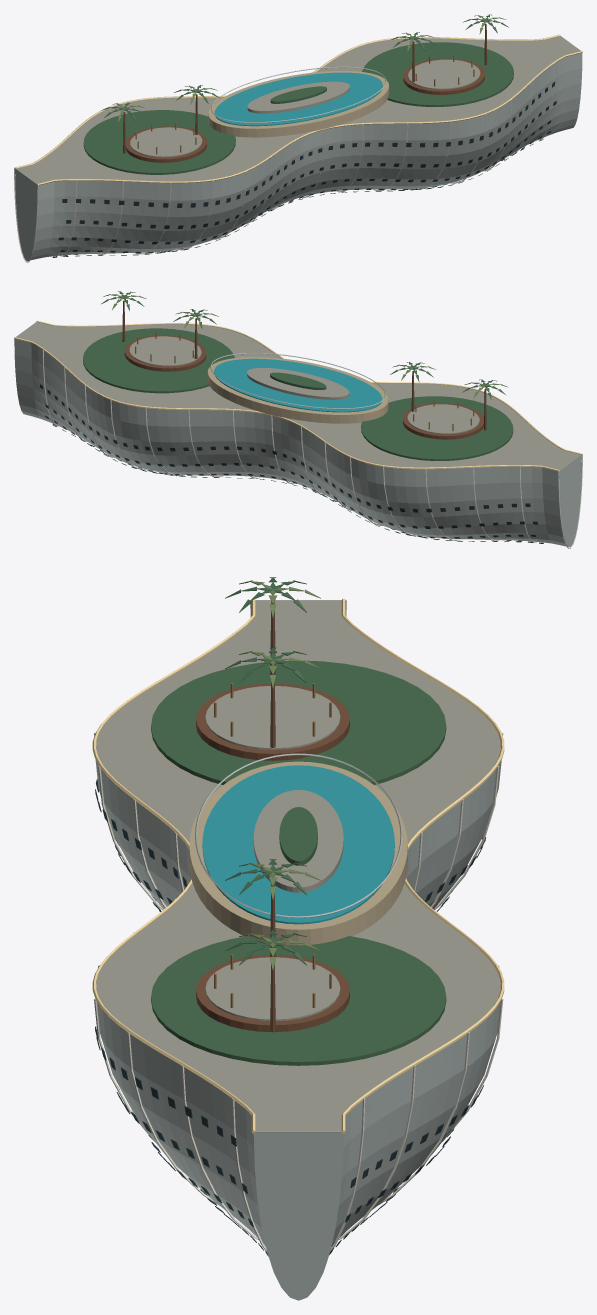
Rendered from KOL_T1_ATMOSPHERE__Deya_Skybridge.fbx.
The picture shows the model from 3 angles, top to bottom: view 1: azimuth 30°, elevation 25°; view 2: azimuth 150°, elevation 25°; view 3: azimuth 270°, elevation 25°; orthographic projection. The views are drawn at different scales.
Visible parts, largest first — view 1: KOL_T1_ATMOSPHERE__Deya_Skybridge__KOL_T1_Silver, KOL_T1_ATMOSPHERE__Deya_Skybridge__KOL_T1_Paving, KOL_T1_ATMOSPHERE__Deya_Skybridge__KOL_T1_Leaf, KOL_T1_ATMOSPHERE__Deya_Skybridge__KOL_T1_Water, KOL_T1_ATMOSPHERE__Deya_Skybridge__KOL_T1_Graphite, KOL_T1_ATMOSPHERE__Deya_Skybridge__KOL_T1_Stone, KOL_T1_ATMOSPHERE__Deya_Skybridge__KOL_T1_Accent, KOL_T1_ATMOSPHERE__Deya_Skybridge__KOL_T1_Pearl, KOL_T1_ATMOSPHERE__Deya_Skybridge__KOL_T1_Louvre, KOL_T1_ATMOSPHERE__Deya_Skybridge__KOL_T1_LeafLight; view 2: KOL_T1_ATMOSPHERE__Deya_Skybridge__KOL_T1_Silver, KOL_T1_ATMOSPHERE__Deya_Skybridge__KOL_T1_Paving, KOL_T1_ATMOSPHERE__Deya_Skybridge__KOL_T1_Leaf, KOL_T1_ATMOSPHERE__Deya_Skybridge__KOL_T1_Water, KOL_T1_ATMOSPHERE__Deya_Skybridge__KOL_T1_Stone, KOL_T1_ATMOSPHERE__Deya_Skybridge__KOL_T1_Accent, KOL_T1_ATMOSPHERE__Deya_Skybridge__KOL_T1_Pearl, KOL_T1_ATMOSPHERE__Deya_Skybridge__KOL_T1_Graphite, KOL_T1_ATMOSPHERE__Deya_Skybridge__KOL_T1_Louvre, KOL_T1_ATMOSPHERE__Deya_Skybridge__KOL_T1_LeafLight; view 3: KOL_T1_ATMOSPHERE__Deya_Skybridge__KOL_T1_Paving, KOL_T1_ATMOSPHERE__Deya_Skybridge__KOL_T1_Silver, KOL_T1_ATMOSPHERE__Deya_Skybridge__KOL_T1_Leaf, KOL_T1_ATMOSPHERE__Deya_Skybridge__KOL_T1_Water, KOL_T1_ATMOSPHERE__Deya_Skybridge__KOL_T1_Stone, KOL_T1_ATMOSPHERE__Deya_Skybridge__KOL_T1_Louvre, KOL_T1_ATMOSPHERE__Deya_Skybridge__KOL_T1_Pearl, KOL_T1_ATMOSPHERE__Deya_Skybridge__KOL_T1_Accent, KOL_T1_ATMOSPHERE__Deya_Skybridge__KOL_T1_Graphite, KOL_T1_ATMOSPHERE__Deya_Skybridge__KOL_T1_LeafLight.
Boxes of the visible parts, left/top/right/bottom form: KOL_T1_ATMOSPHERE__Deya_Skybridge__KOL_T1_Silver: left=15, top=36, right=582, bottom=260; KOL_T1_ATMOSPHERE__Deya_Skybridge__KOL_T1_Paving: left=16, top=36, right=580, bottom=183; KOL_T1_ATMOSPHERE__Deya_Skybridge__KOL_T1_Leaf: left=83, top=14, right=513, bottom=174; KOL_T1_ATMOSPHERE__Deya_Skybridge__KOL_T1_Water: left=214, top=72, right=382, bottom=126; KOL_T1_ATMOSPHERE__Deya_Skybridge__KOL_T1_Graphite: left=52, top=82, right=556, bottom=257; KOL_T1_ATMOSPHERE__Deya_Skybridge__KOL_T1_Stone: left=208, top=71, right=389, bottom=137; KOL_T1_ATMOSPHERE__Deya_Skybridge__KOL_T1_Accent: left=14, top=34, right=582, bottom=185; KOL_T1_ATMOSPHERE__Deya_Skybridge__KOL_T1_Pearl: left=14, top=64, right=553, bottom=262; KOL_T1_ATMOSPHERE__Deya_Skybridge__KOL_T1_Louvre: left=123, top=24, right=487, bottom=162; KOL_T1_ATMOSPHERE__Deya_Skybridge__KOL_T1_LeafLight: left=112, top=15, right=506, bottom=122; KOL_T1_ATMOSPHERE__Deya_Skybridge__KOL_T1_Silver: left=14, top=322, right=581, bottom=546; KOL_T1_ATMOSPHERE__Deya_Skybridge__KOL_T1_Paving: left=16, top=322, right=580, bottom=470; KOL_T1_ATMOSPHERE__Deya_Skybridge__KOL_T1_Leaf: left=83, top=291, right=513, bottom=460; KOL_T1_ATMOSPHERE__Deya_Skybridge__KOL_T1_Water: left=214, top=358, right=382, bottom=412; KOL_T1_ATMOSPHERE__Deya_Skybridge__KOL_T1_Stone: left=207, top=357, right=388, bottom=423; KOL_T1_ATMOSPHERE__Deya_Skybridge__KOL_T1_Accent: left=14, top=320, right=581, bottom=471; KOL_T1_ATMOSPHERE__Deya_Skybridge__KOL_T1_Pearl: left=42, top=350, right=582, bottom=548; KOL_T1_ATMOSPHERE__Deya_Skybridge__KOL_T1_Graphite: left=45, top=404, right=543, bottom=543; KOL_T1_ATMOSPHERE__Deya_Skybridge__KOL_T1_Louvre: left=122, top=300, right=486, bottom=439; KOL_T1_ATMOSPHERE__Deya_Skybridge__KOL_T1_LeafLight: left=103, top=294, right=508, bottom=398; KOL_T1_ATMOSPHERE__Deya_Skybridge__KOL_T1_Paving: left=96, top=600, right=500, bottom=1132; KOL_T1_ATMOSPHERE__Deya_Skybridge__KOL_T1_Silver: left=95, top=600, right=501, bottom=1300; KOL_T1_ATMOSPHERE__Deya_Skybridge__KOL_T1_Leaf: left=151, top=577, right=446, bottom=1065; KOL_T1_ATMOSPHERE__Deya_Skybridge__KOL_T1_Water: left=202, top=765, right=394, bottom=924; KOL_T1_ATMOSPHERE__Deya_Skybridge__KOL_T1_Stone: left=189, top=761, right=407, bottom=945; KOL_T1_ATMOSPHERE__Deya_Skybridge__KOL_T1_Louvre: left=196, top=602, right=349, bottom=1032; KOL_T1_ATMOSPHERE__Deya_Skybridge__KOL_T1_Pearl: left=94, top=599, right=503, bottom=1252; KOL_T1_ATMOSPHERE__Deya_Skybridge__KOL_T1_Accent: left=92, top=598, right=504, bottom=1133; KOL_T1_ATMOSPHERE__Deya_Skybridge__KOL_T1_Graphite: left=95, top=779, right=486, bottom=1256; KOL_T1_ATMOSPHERE__Deya_Skybridge__KOL_T1_LeafLight: left=239, top=580, right=320, bottom=970.
Size of the model in its own units: 196 by 52.04 by 64.12.
